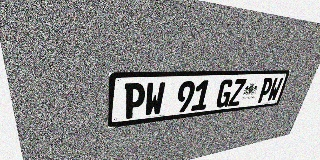1: (191, 80, 212, 111)
9: (175, 81, 196, 113)
G: (215, 79, 234, 108)
P: (123, 83, 146, 119), (256, 78, 274, 103)
W: (144, 82, 166, 117), (266, 77, 284, 102)
Z: (227, 79, 247, 106)
